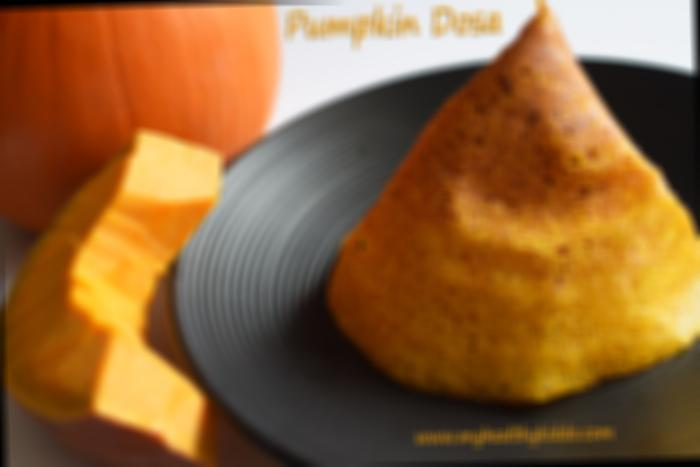dosa: (328, 4, 700, 402)
